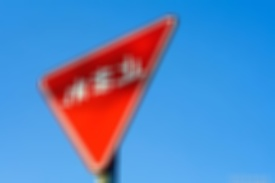Regulatory_sign_triangle: (36, 11, 184, 176)
